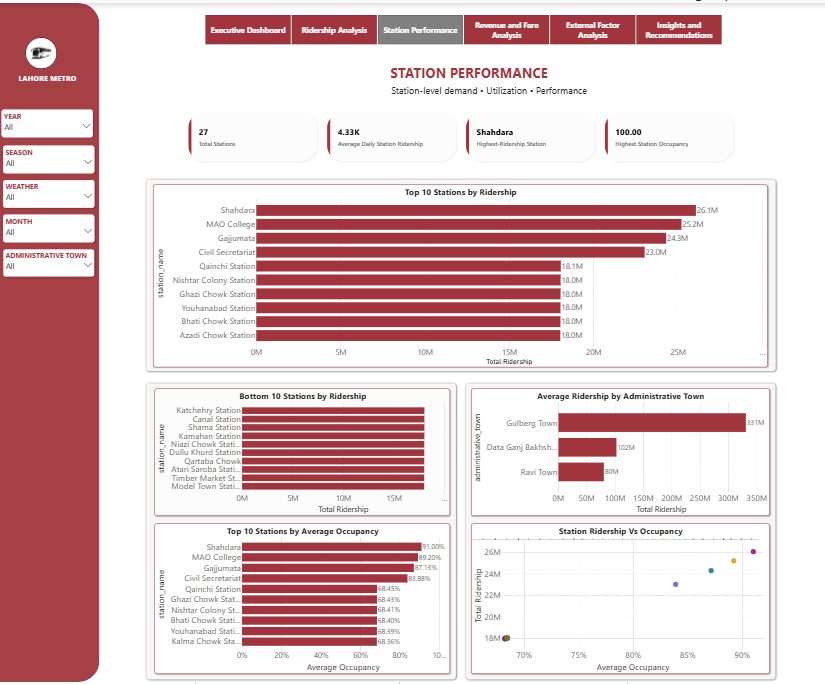

The dashboard page shown, as its layout file describes it:
{"tool":"powerbi","page":{"name":"Station Performance","canvas":[8000,6500],"ordinal":2},"visuals":[{"type":"shape","box":[0,0,1010,6500],"z":0},{"type":"textbox","box":[225,660,610,174],"z":1000},{"type":"image","box":[305,325,300,300],"z":2000},{"type":"textbox","box":[3420,570,3120,450],"z":3000},{"type":"cardVisual","fields":{"Data":["lahore_metro_analysis ridership.Total Stations","lahore_metro_analysis ridership.Average Station Ridership","lahore_metro_analysis ridership.Top Station","lahore_metro_analysis stations.Highest Station Occupancy"]},"box":[1820,1010,5300,550],"z":4000},{"type":"pageNavigator","box":[2020,120,4940,280],"z":5000},{"type":"slicer","fields":{"Values":["lahore_metro_analysis ridership.year"]},"box":[65,1020,875,267.5],"z":6000},{"type":"slicer","fields":{"Values":["lahore_metro_analysis ridership.season"]},"box":[80,1360,875,267.5],"z":7000},{"type":"slicer","fields":{"Values":["lahore_metro_analysis ridership.month_name"]},"box":[80,2025,875,267.5],"z":8000},{"type":"slicer","fields":{"Values":["lahore_metro_analysis ridership.weather"]},"box":[80,1700,875,267.5],"z":9000},{"type":"slicer","fields":{"Values":["lahore_metro_analysis ridership.administrative_town"]},"box":[80,2357.5,875,267.5],"z":10000},{"type":"shape","box":[1432.6,1670,6070.8,1882.2],"z":11000},{"type":"clusteredBarChart","title":"Top 10 Stations by Ridership","fields":{"Category":["lahore_metro_analysis ridership.station_name"],"Y":["lahore_metro_analysis ridership.Total Ridership"]},"box":[1525.4,1736.3,5885.3,1749.7],"z":12000},{"type":"shape","box":[1430,3620,3010,2880],"z":13000},{"type":"shape","box":[4490,3620,3010,2880],"z":14000},{"type":"clusteredBarChart","title":"  Bottom 10 Stations by Ridership","fields":{"Category":["lahore_metro_analysis ridership.station_name"],"Y":["lahore_metro_analysis ridership.Total Ridership"]},"box":[1530,3690,2830,1220],"z":15000},{"type":"clusteredBarChart","title":"Average Ridership by Administrative Town","fields":{"Category":["lahore_metro_analysis ridership.administrative_town"],"Y":["lahore_metro_analysis ridership.Total Ridership"]},"box":[4560,3690,2860,1220],"z":16000},{"type":"barChart","title":"Top 10 Stations by Average Occupancy","fields":{"Category":["lahore_metro_analysis ridership.station_name"],"Y":["lahore_metro_analysis ridership.Average Occupancy"]},"box":[1530,4980,2830,1440],"z":17000},{"type":"scatterChart","title":"Station Ridership Vs Occupancy","fields":{"X":["lahore_metro_analysis ridership.Average Occupancy"],"Y":["lahore_metro_analysis ridership.Total Ridership"],"Series":["lahore_metro_analysis ridership.station_name"]},"box":[4560,4980,2860,1440],"z":18000}]}

Visuals, with their boxes on the page's 8000x6500 design canvas (x1, y1, x2, y2). These are canvas units, not pixel positions in the 825x684 screenshot, which may show the page scaled, cropped or inside an application window:
shape: [0,0,1010,6500]
textbox: [225,660,835,834]
image: [305,325,605,625]
textbox: [3420,570,6540,1020]
cardVisual - lahore_metro_analysis ridership.Total Stations x lahore_metro_analysis ridership.Average Station Ridership: [1820,1010,7120,1560]
pageNavigator: [2020,120,6960,400]
slicer - lahore_metro_analysis ridership.year: [65,1020,940,1288]
slicer - lahore_metro_analysis ridership.season: [80,1360,955,1628]
slicer - lahore_metro_analysis ridership.month_name: [80,2025,955,2292]
slicer - lahore_metro_analysis ridership.weather: [80,1700,955,1968]
slicer - lahore_metro_analysis ridership.administrative_town: [80,2358,955,2625]
shape: [1433,1670,7503,3552]
"Top 10 Stations by Ridership" clusteredBarChart: [1525,1736,7411,3486]
shape: [1430,3620,4440,6500]
shape: [4490,3620,7500,6500]
"  Bottom 10 Stations by Ridership" clusteredBarChart: [1530,3690,4360,4910]
"Average Ridership by Administrative Town" clusteredBarChart: [4560,3690,7420,4910]
"Top 10 Stations by Average Occupancy" barChart: [1530,4980,4360,6420]
"Station Ridership Vs Occupancy" scatterChart: [4560,4980,7420,6420]
